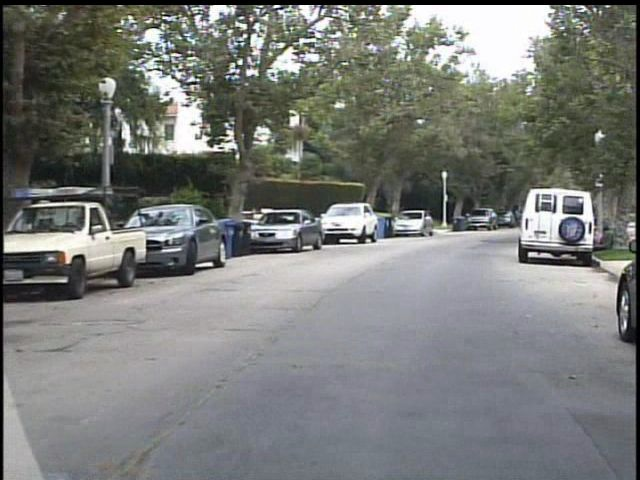person: (598, 223, 618, 253)
